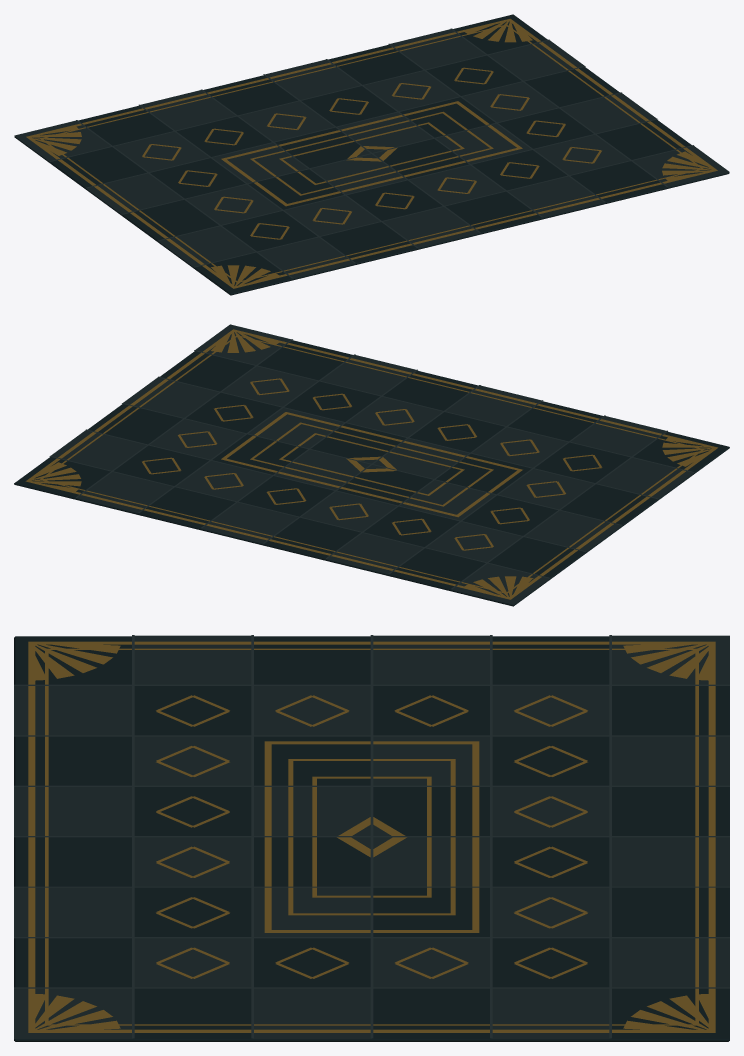
3 views of the same model, one above another, from view 1: azimuth 30°, elevation 25°; view 2: azimuth 150°, elevation 25°; view 3: azimuth 270°, elevation 25° (orthographic). The views are drawn at different scales.
Parts seen in each view (by area): view 1: furniture_24_rug_unique_deco; view 2: furniture_24_rug_unique_deco; view 3: furniture_24_rug_unique_deco.
Boxes of the visible parts, x1,y1,x2,y2 form: furniture_24_rug_unique_deco: (14, 14, 729, 295); furniture_24_rug_unique_deco: (14, 324, 729, 606); furniture_24_rug_unique_deco: (14, 635, 729, 1041).
Bounding box in the file's own units: 8 × 0.038 × 6.
